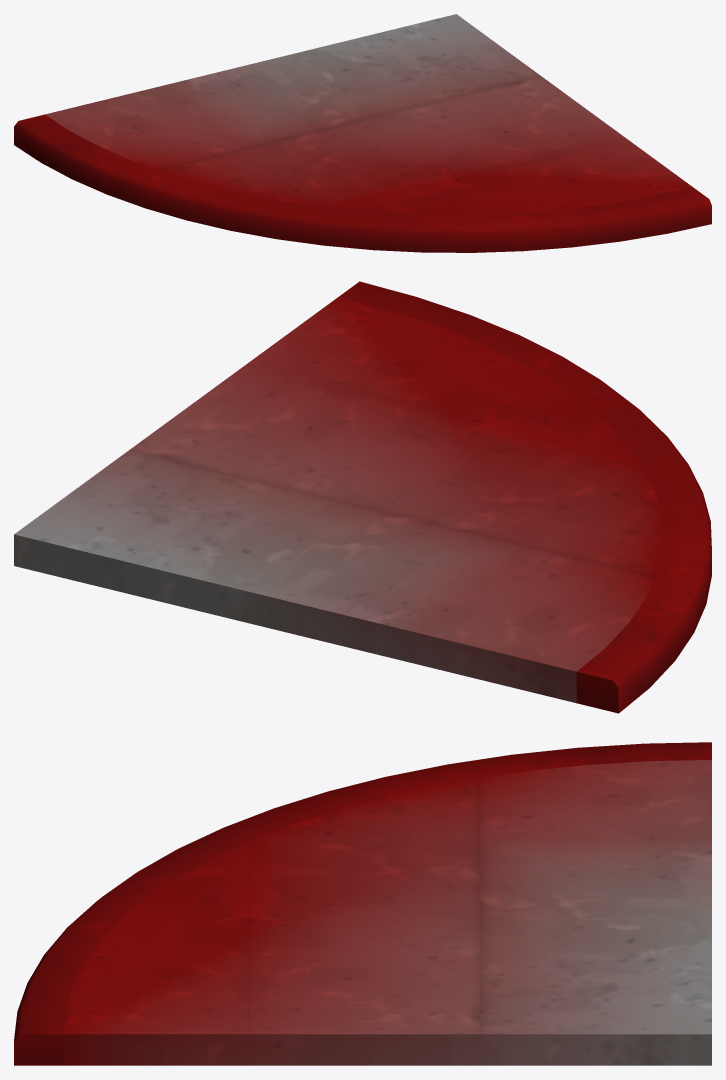
Rendered from sidewalk_corner_round_3m.glb.
3 renders of one model, top to bottom at view 1: azimuth 30°, elevation 25°; view 2: azimuth 150°, elevation 25°; view 3: azimuth 270°, elevation 25°, orthographic. The views are drawn at different scales.
Visible parts, largest first — view 1: Sidewalk_Corner_Round_3m; view 2: Sidewalk_Corner_Round_3m; view 3: Sidewalk_Corner_Round_3m.
Boxes of the visible parts, x1,y1,x2,y2 form: Sidewalk_Corner_Round_3m: (14, 14, 711, 252); Sidewalk_Corner_Round_3m: (14, 281, 711, 713); Sidewalk_Corner_Round_3m: (14, 742, 711, 1065).
Size of the model in its own units: 3.01 by 0.15 by 3.01.
1 material, 1 textured.
